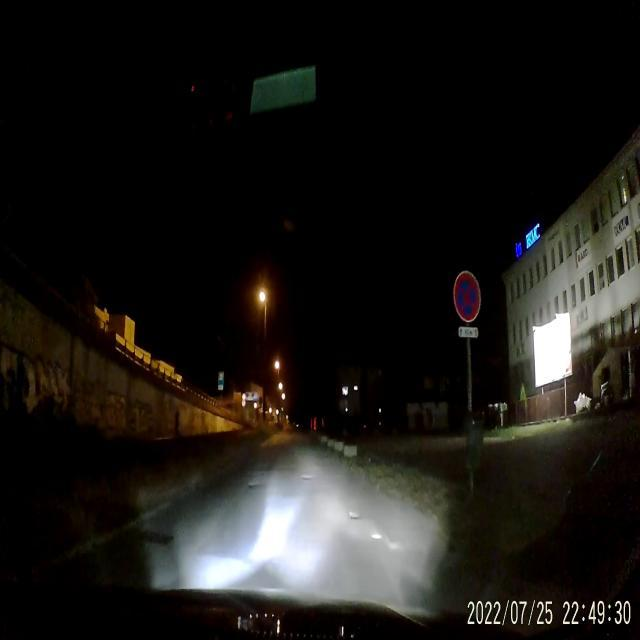Manhole: (136, 524, 173, 553)
Pothole: (297, 469, 316, 486), (346, 509, 364, 526), (248, 478, 266, 492), (371, 530, 382, 544)
